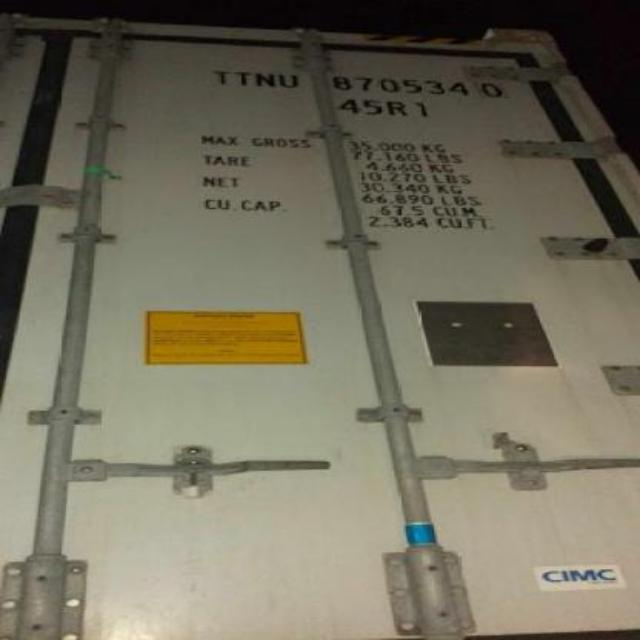0: (374, 71, 400, 95), (478, 78, 506, 100)
3: (424, 72, 448, 98)
4: (448, 74, 474, 102)
5: (402, 72, 424, 98)
7: (350, 70, 374, 94)
8: (328, 66, 352, 95)
N: (254, 66, 278, 94)
T: (228, 61, 252, 90), (210, 64, 232, 90)
U: (276, 70, 302, 94)
